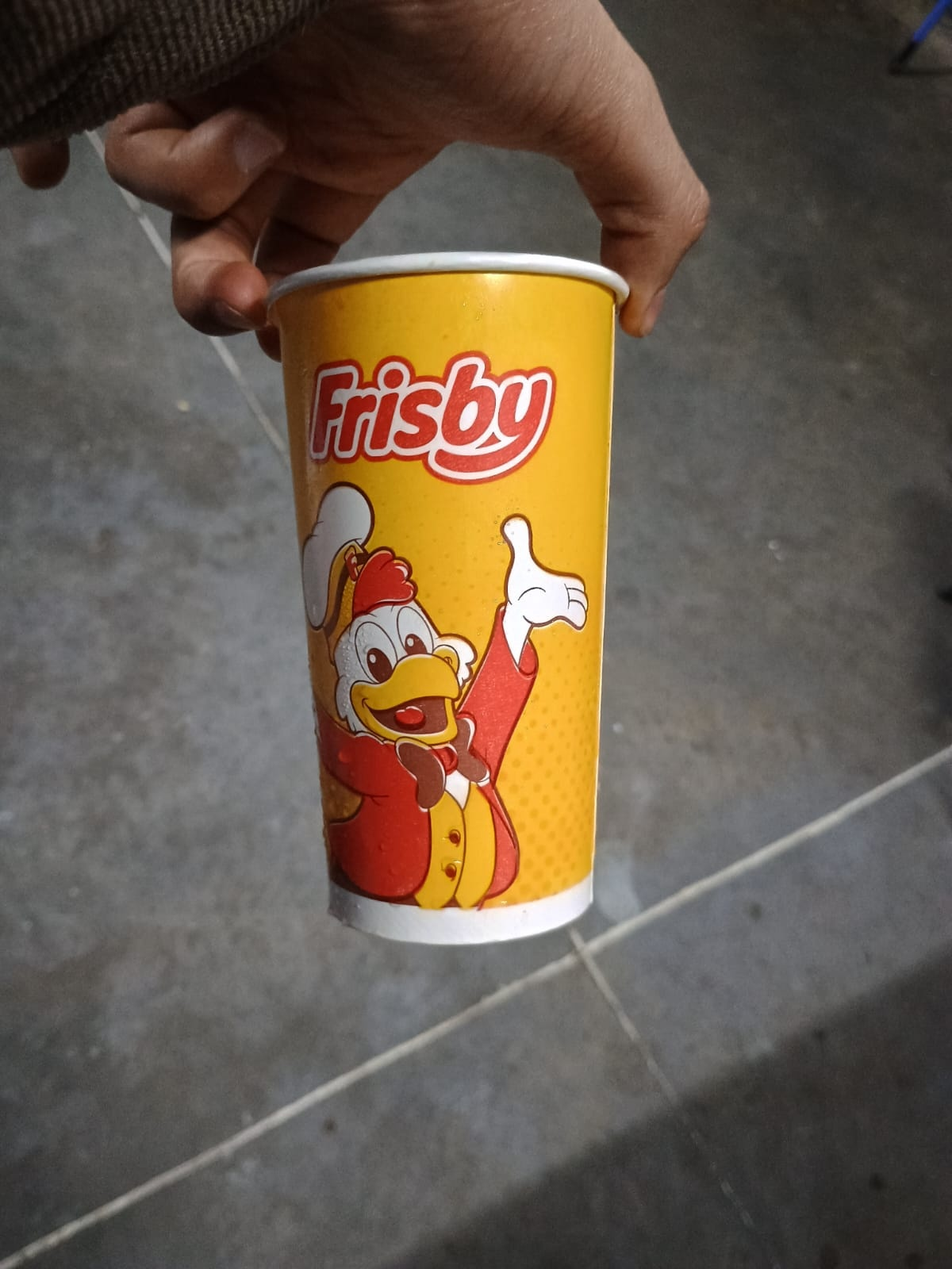Carton: (267, 250, 630, 943)
